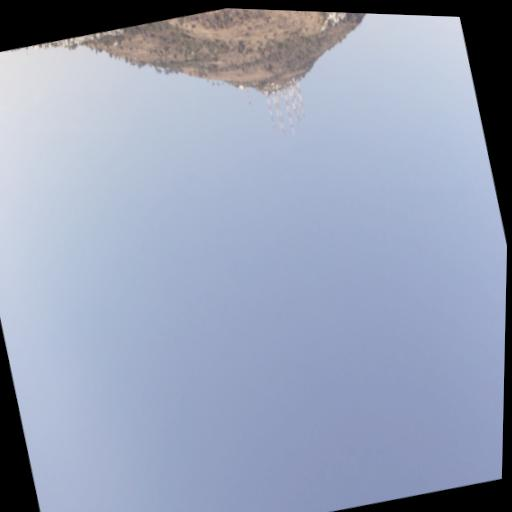drones: (217, 58, 223, 66)
